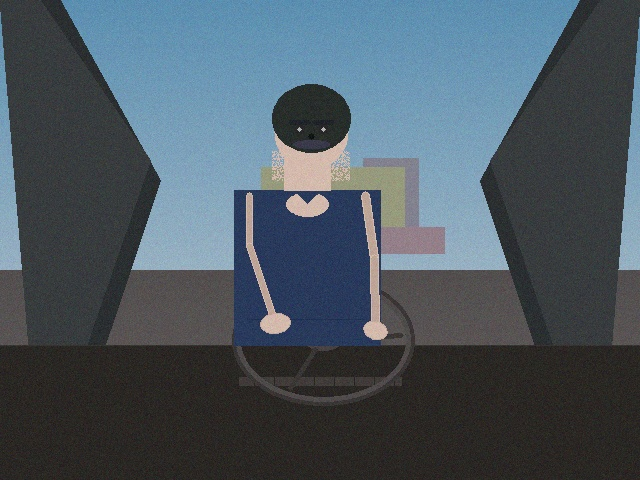normal_driving: (109, 188, 323, 340)
